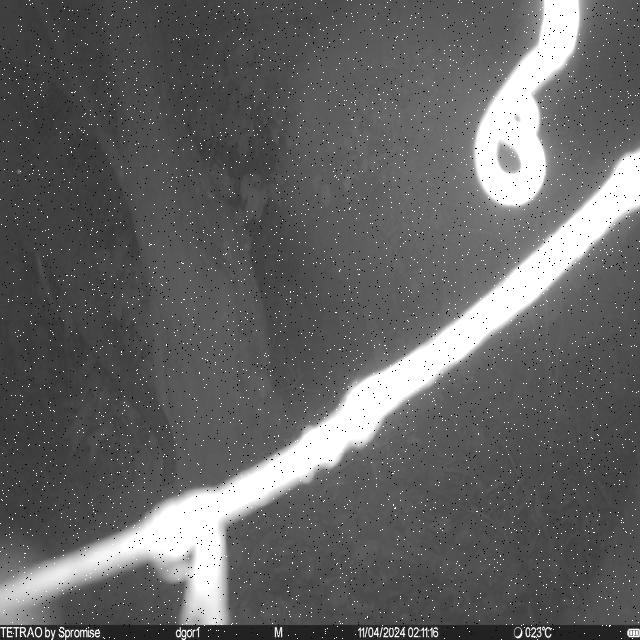elephant: (2, 90, 176, 488)
tusk: (35, 252, 59, 312)
